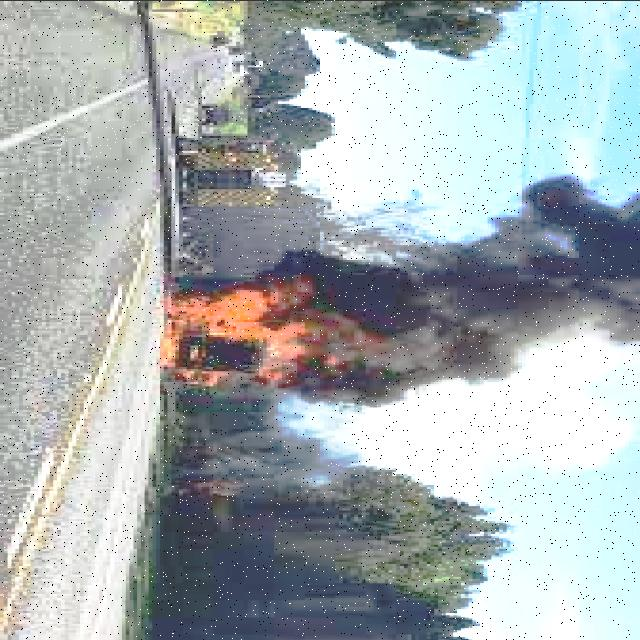api: (146, 258, 386, 395)
